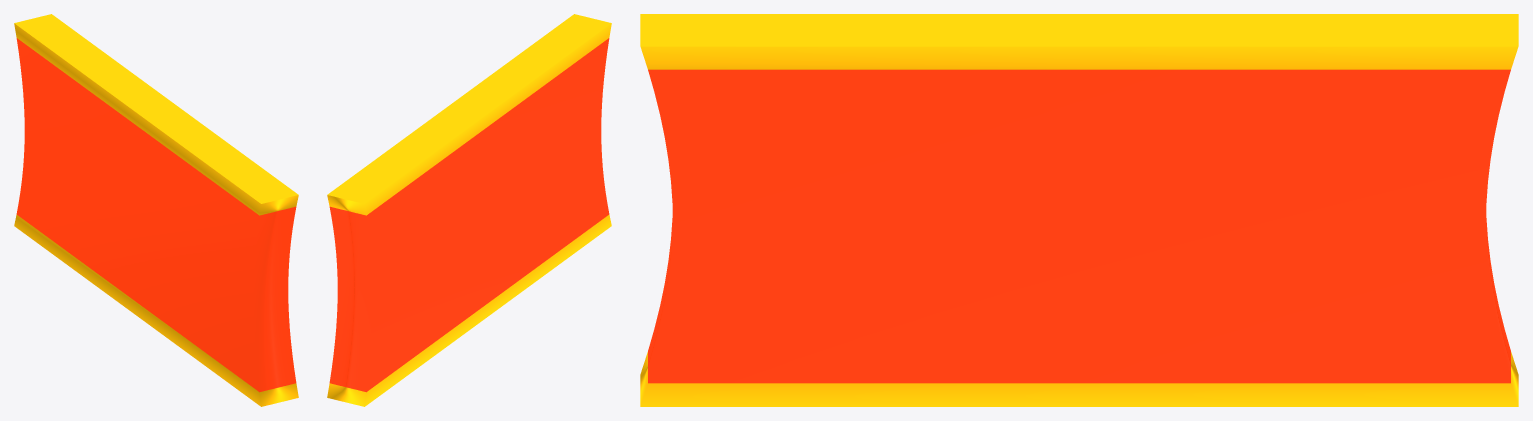
File: ticket.glb
3 views of the same model, side by side, from view 1: azimuth 30°, elevation 25°; view 2: azimuth 150°, elevation 25°; view 3: azimuth 270°, elevation 25° (orthographic). The views are drawn at different scales.
Parts seen in each view (by area): view 1: Cube; view 2: Cube; view 3: Cube.
Part boxes in pixels (<box>): Cube: <box>14,14,298,406</box>; Cube: <box>327,14,611,406</box>; Cube: <box>640,14,1518,406</box>.
Bounding box in the file's own units: 0.4585 × 2.37 × 5.23.
